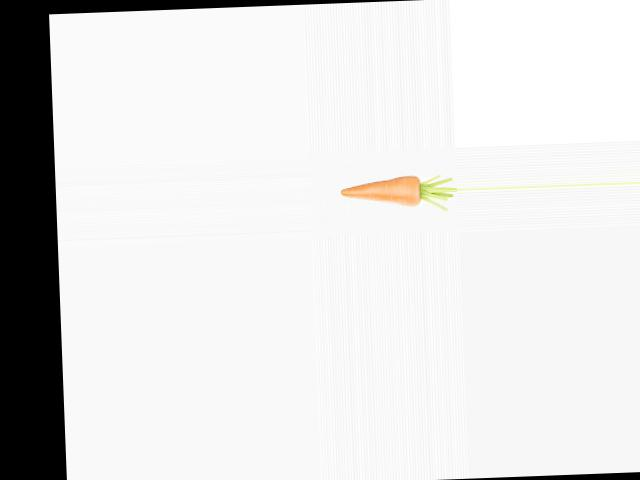carrot: (338, 172, 428, 213)
